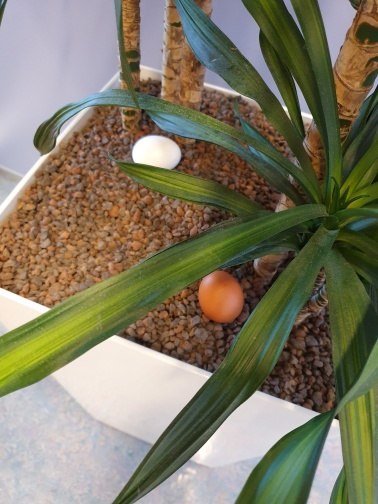egg: (198, 270, 243, 323), (132, 134, 180, 172)
